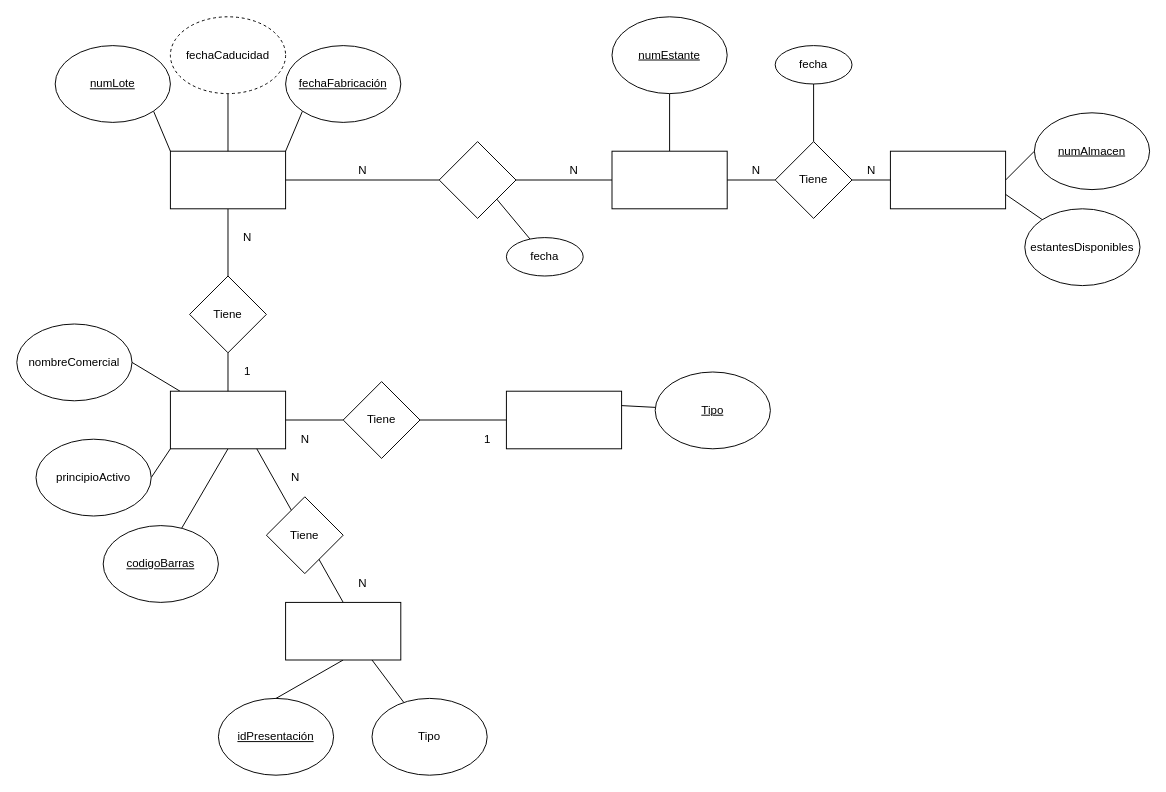
This 1166x792 diagram has some shape labels left out. Each missing label, with the centre of its shape:
Almacén: point 947,179
Estante: point 669,179
Fármaco: point 227,419
Lote: point 227,179
Línea: point 563,419
Pertenece: point 477,179
Presentación: point 343,630
